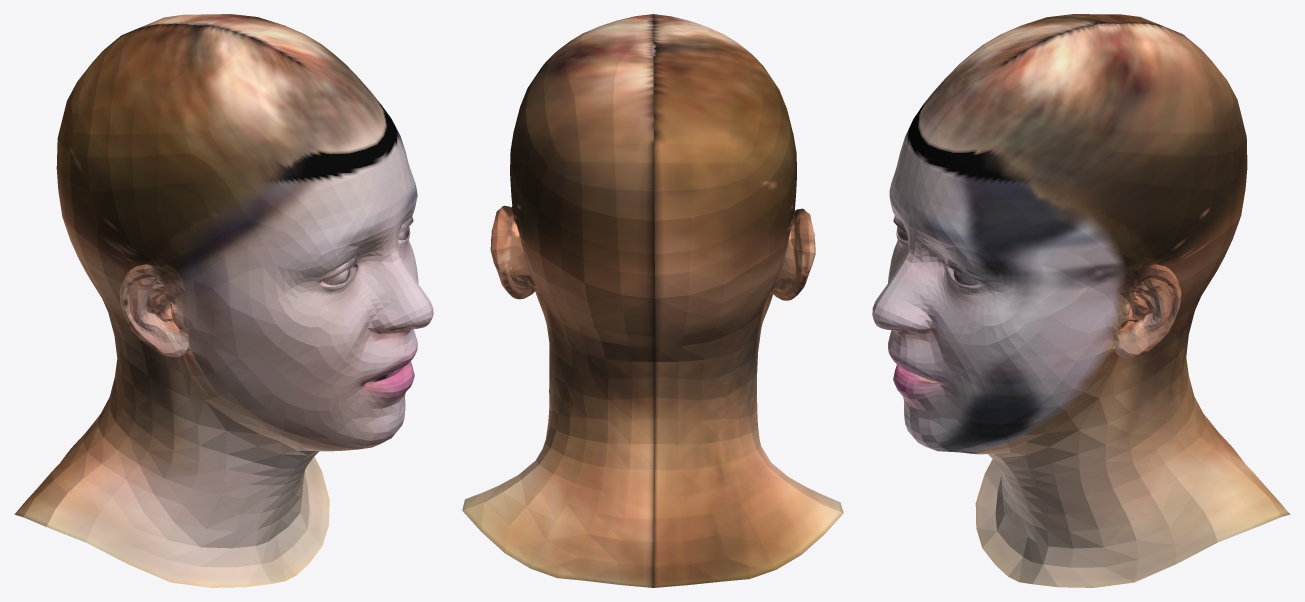
Rendered from cheo1_frame0000.obj.
3 views of the same model, side by side, from view 1: azimuth 30°, elevation 25°; view 2: azimuth 150°, elevation 25°; view 3: azimuth 270°, elevation 25° (orthographic). The views are drawn at different scales.
Bounding box in the file's own units: 0.2117 × 0.3211 × 0.2292.
1 material, 1 textured.
